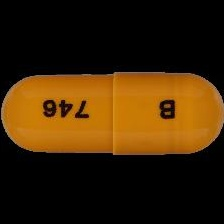51991-746: (0, 0, 224, 224)
